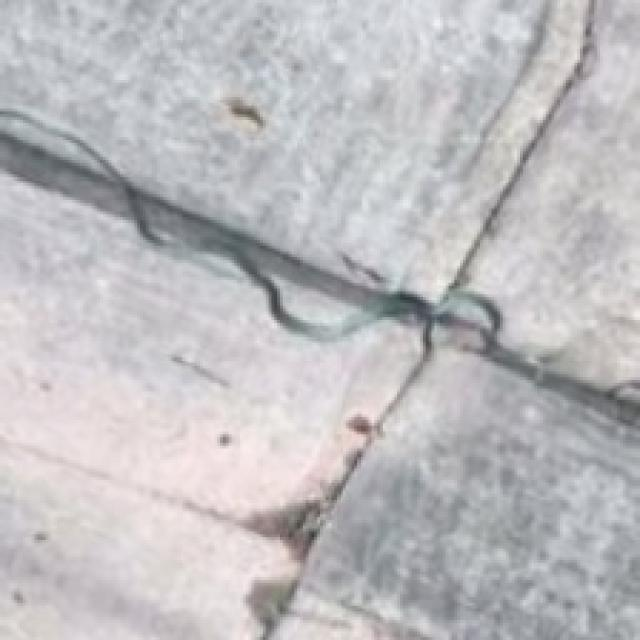paradise tree snake: (0, 109, 497, 346)
